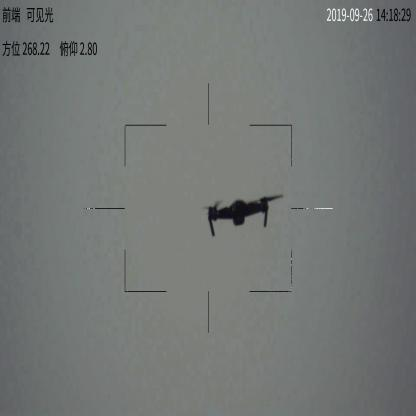uav: (196, 188, 286, 236)
